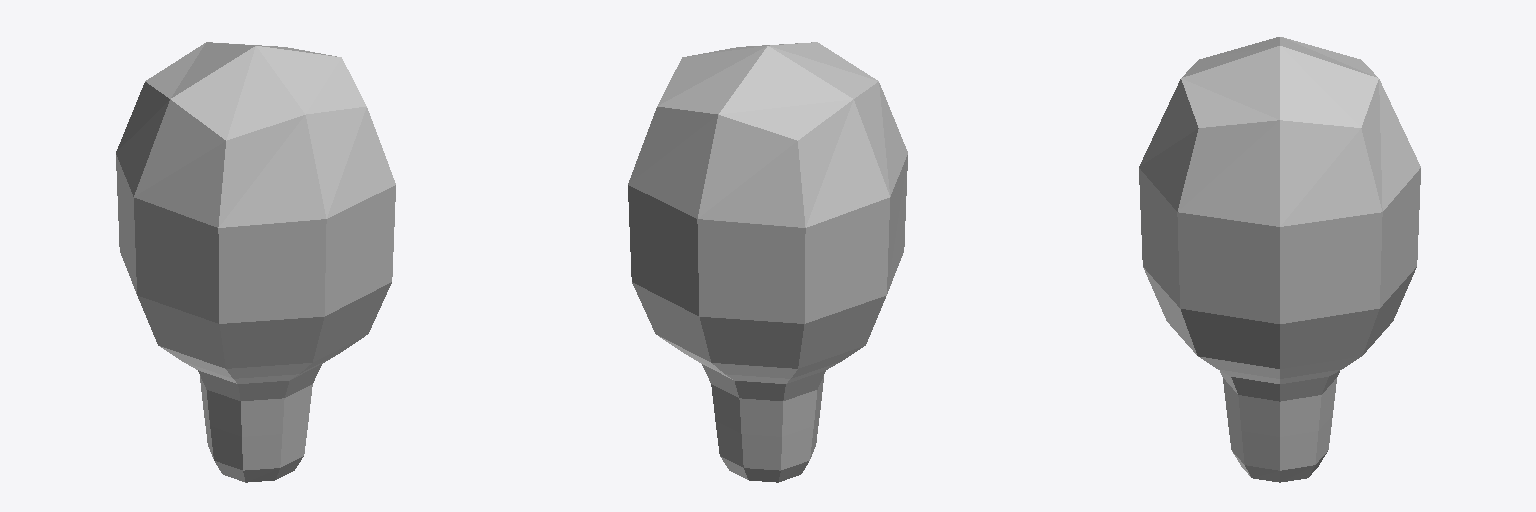
The model's file is Lightbulb.obj.
3 renders of one model, left to right at view 1: azimuth 30°, elevation 25°; view 2: azimuth 150°, elevation 25°; view 3: azimuth 270°, elevation 25°, orthographic.
Parts seen in each view (by area): view 1: Cube; view 2: Cube; view 3: Cube.
Boxes of the visible parts, x1=… form: Cube: x1=116, y1=42, x2=395, y2=482; Cube: x1=628, y1=42, x2=907, y2=482; Cube: x1=1139, y1=37, x2=1420, y2=482.
Size of the model in its own units: 1.36 by 2.24 by 1.36.